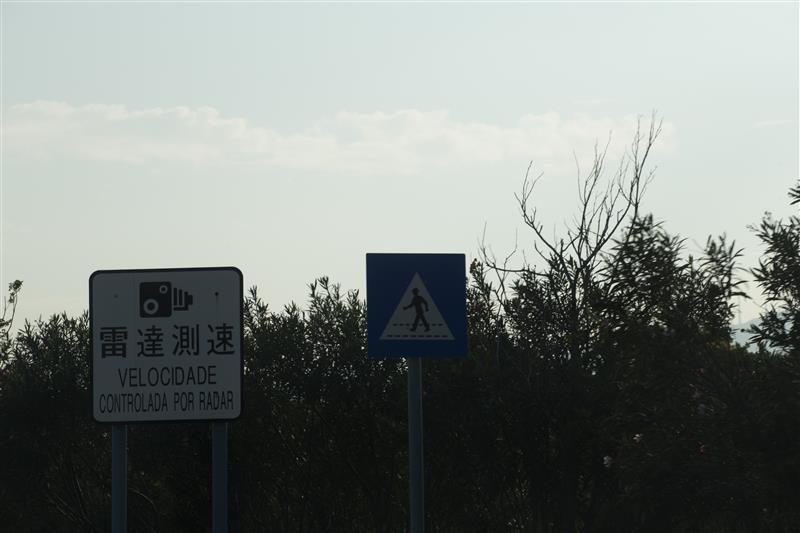pedestrianCrossing: (365, 252, 471, 357)
